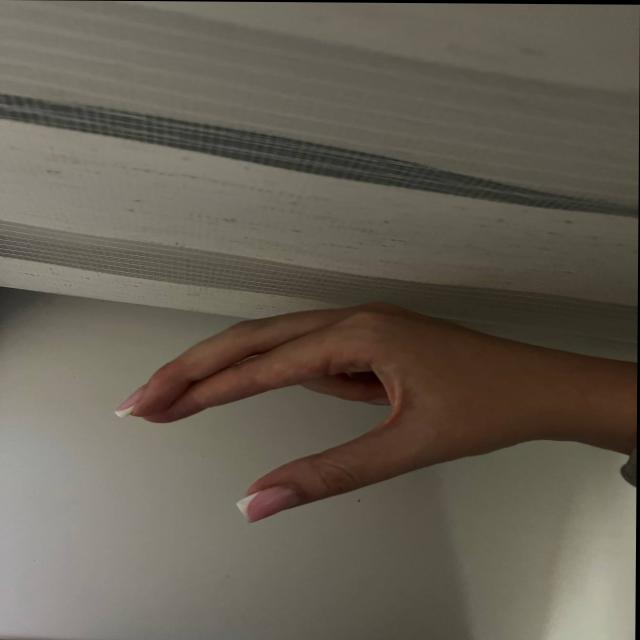iu: (109, 295, 499, 531)
